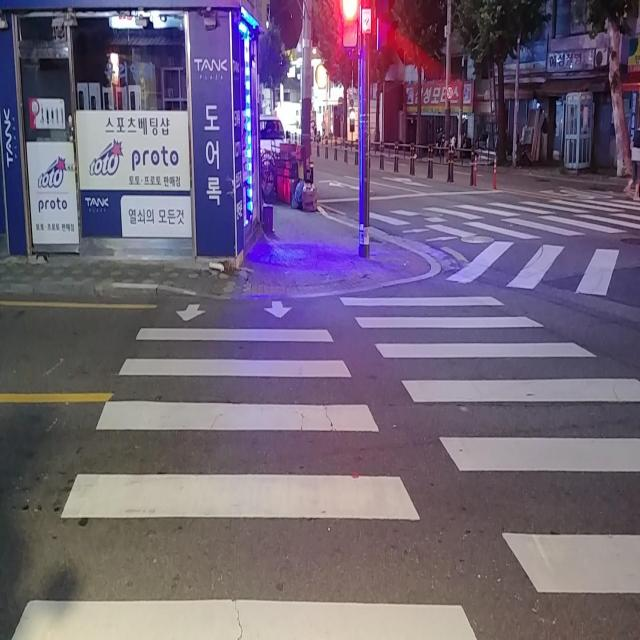빨간불: (339, 0, 358, 53)
횡단보도: (6, 291, 640, 640), (375, 196, 640, 298)
